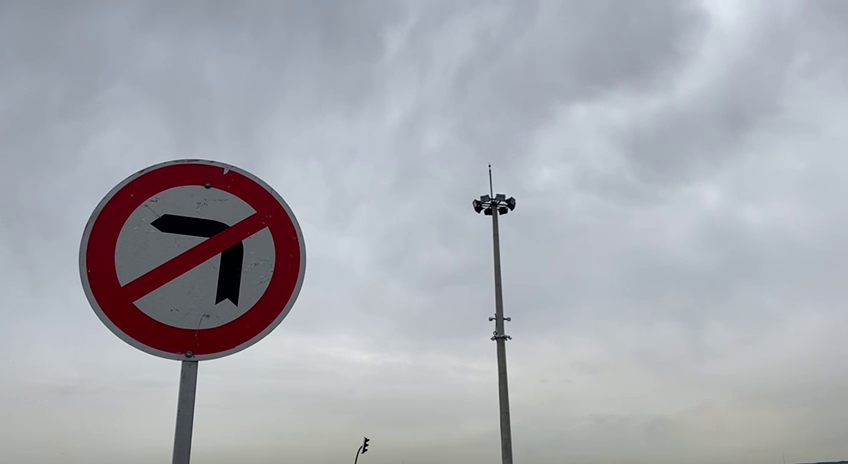noTurnLeft: (72, 145, 313, 368)
